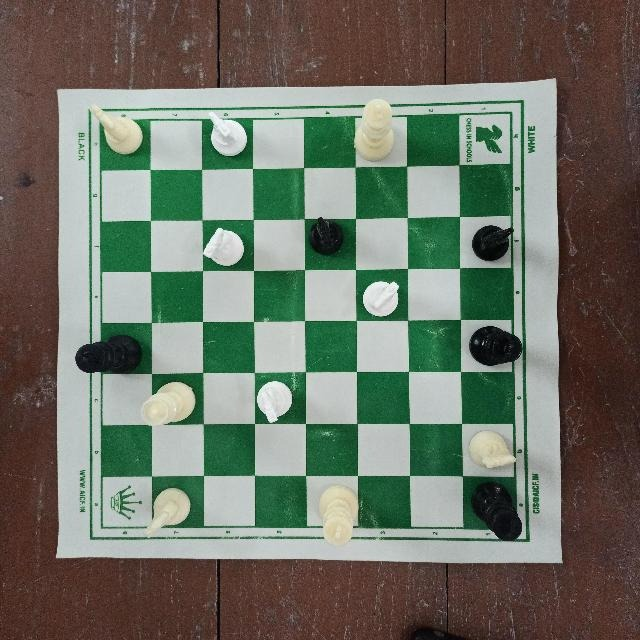black-king: (470, 481, 528, 549), (71, 332, 146, 380), (469, 324, 531, 368)
black-knight: (300, 216, 346, 264), (469, 222, 515, 264)
white-king: (312, 478, 362, 552), (352, 95, 402, 163)
white-knight: (87, 94, 144, 159), (144, 483, 195, 541), (200, 219, 259, 269), (200, 107, 248, 165), (255, 372, 309, 422), (355, 273, 407, 319), (468, 431, 520, 473)
white-queen: (137, 381, 197, 431)
